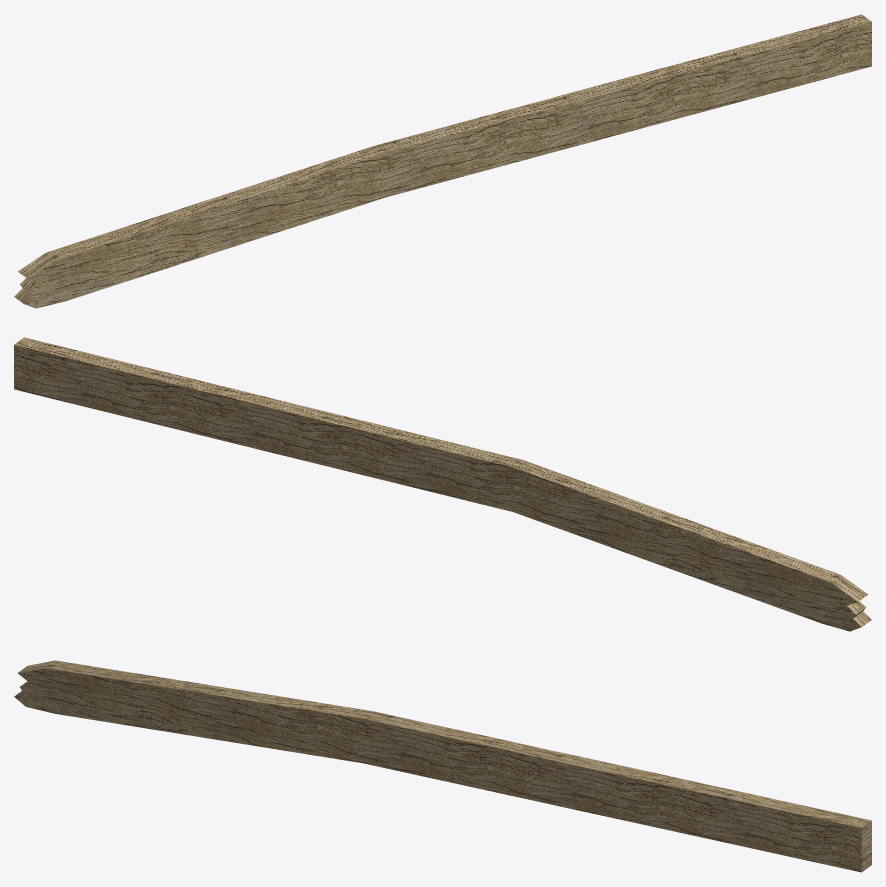
Rendered from woodenPlank04.FBX.
The picture shows the model from 3 angles, top to bottom: view 1: azimuth 30°, elevation 25°; view 2: azimuth 150°, elevation 25°; view 3: azimuth 330°, elevation 25°; orthographic projection.
Parts seen in each view (by area): view 1: wooden_fence_plank_large1; view 2: wooden_fence_plank_large1; view 3: wooden_fence_plank_large1.
Part boxes in pixels (box(x1,y1,x2,y2)): wooden_fence_plank_large1: box(14, 14, 871, 308); wooden_fence_plank_large1: box(14, 337, 871, 631); wooden_fence_plank_large1: box(14, 660, 871, 872).
Size of the model in its own units: 416 by 38.89 by 13.75.
